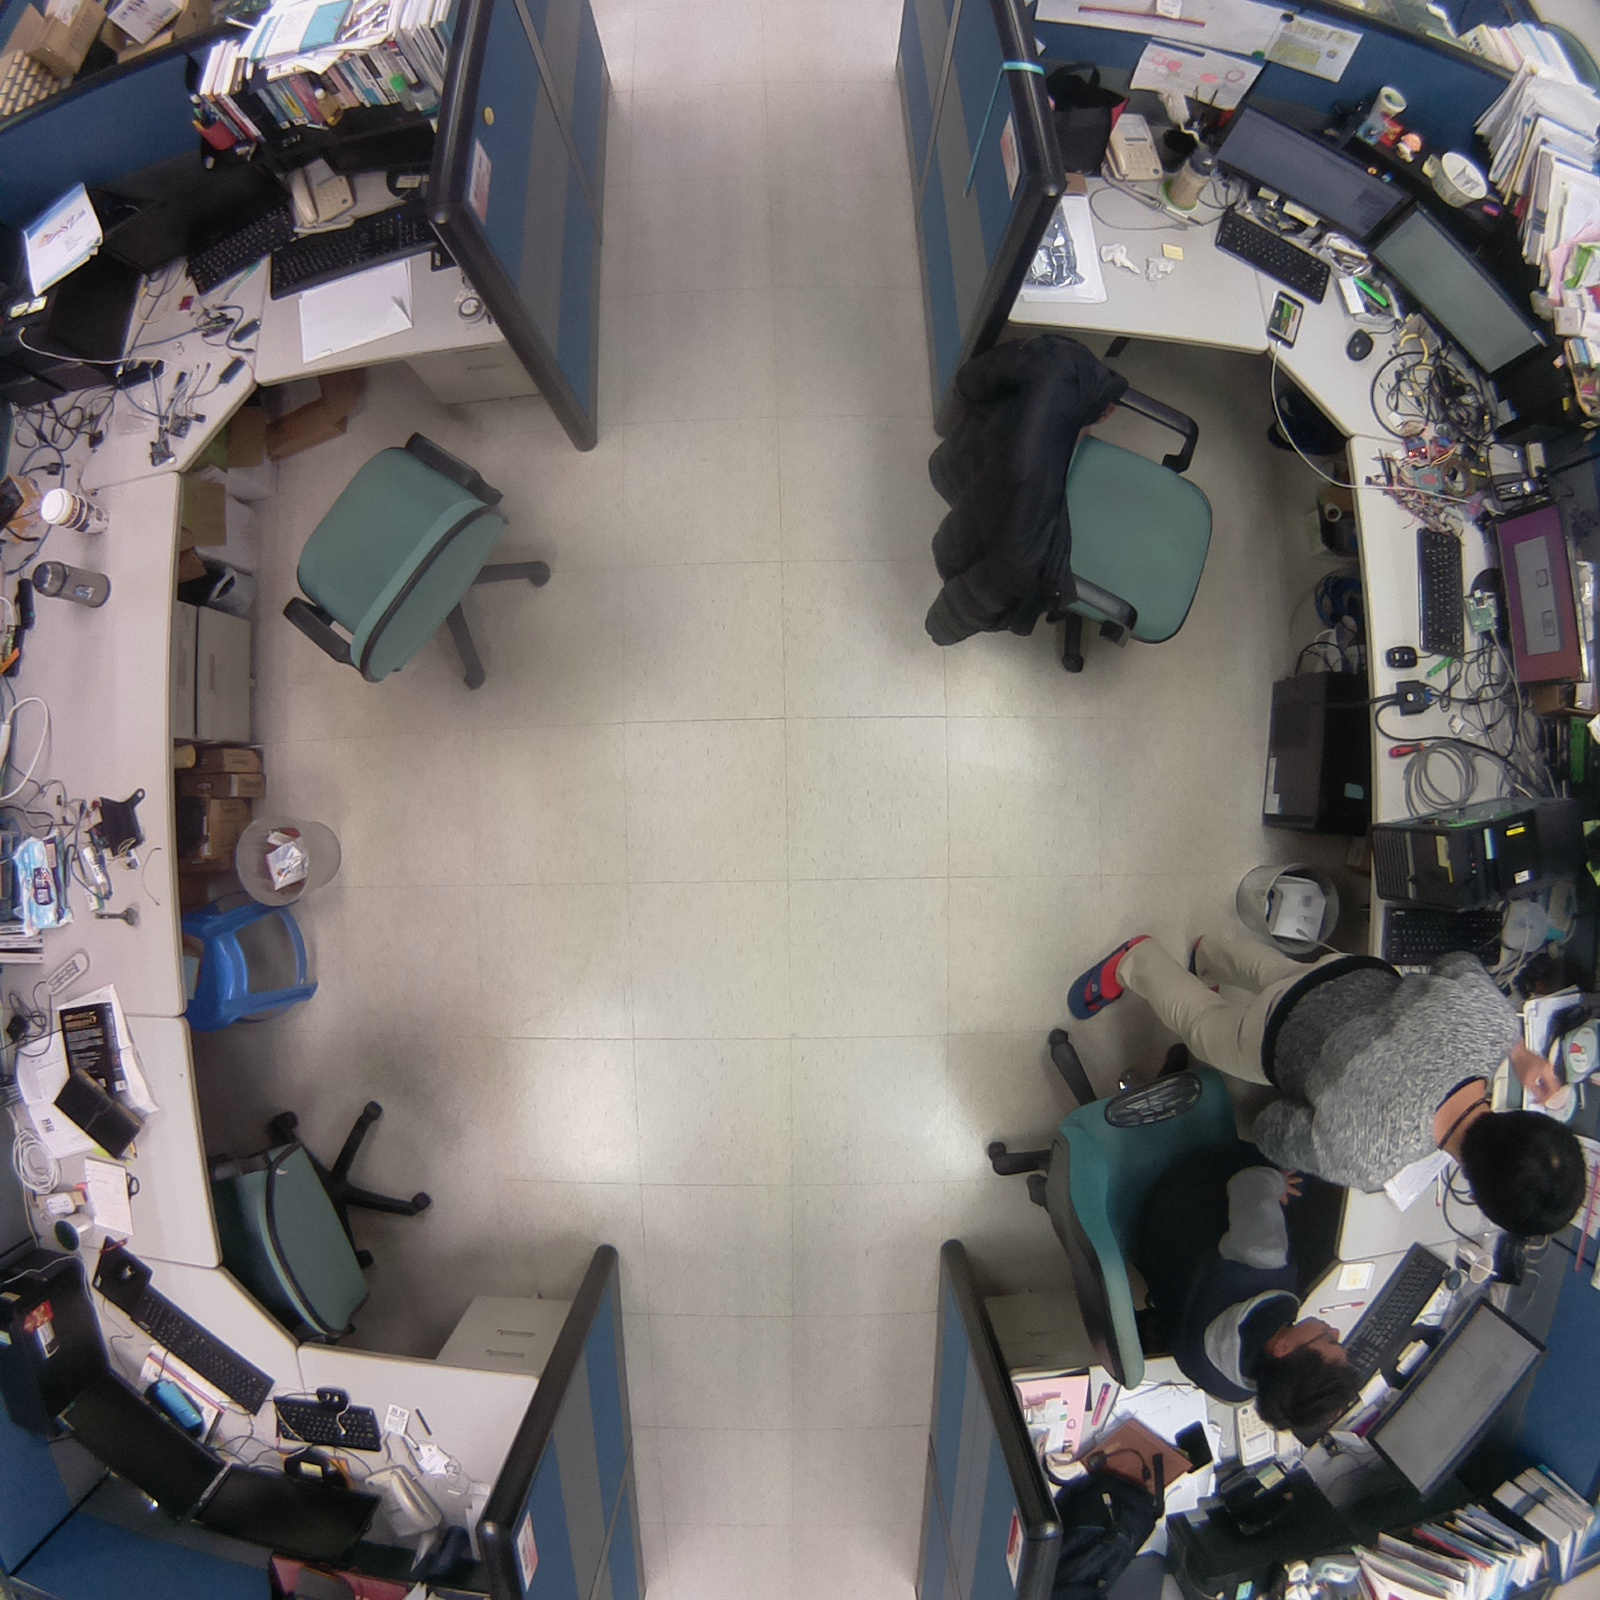chair: (896, 309, 1229, 693), (258, 414, 563, 717), (191, 1081, 442, 1342)
head: (1455, 1108, 1597, 1246), (1251, 1319, 1368, 1451)
sitting: (960, 1009, 1365, 1441)
standing: (1045, 907, 1593, 1251)
